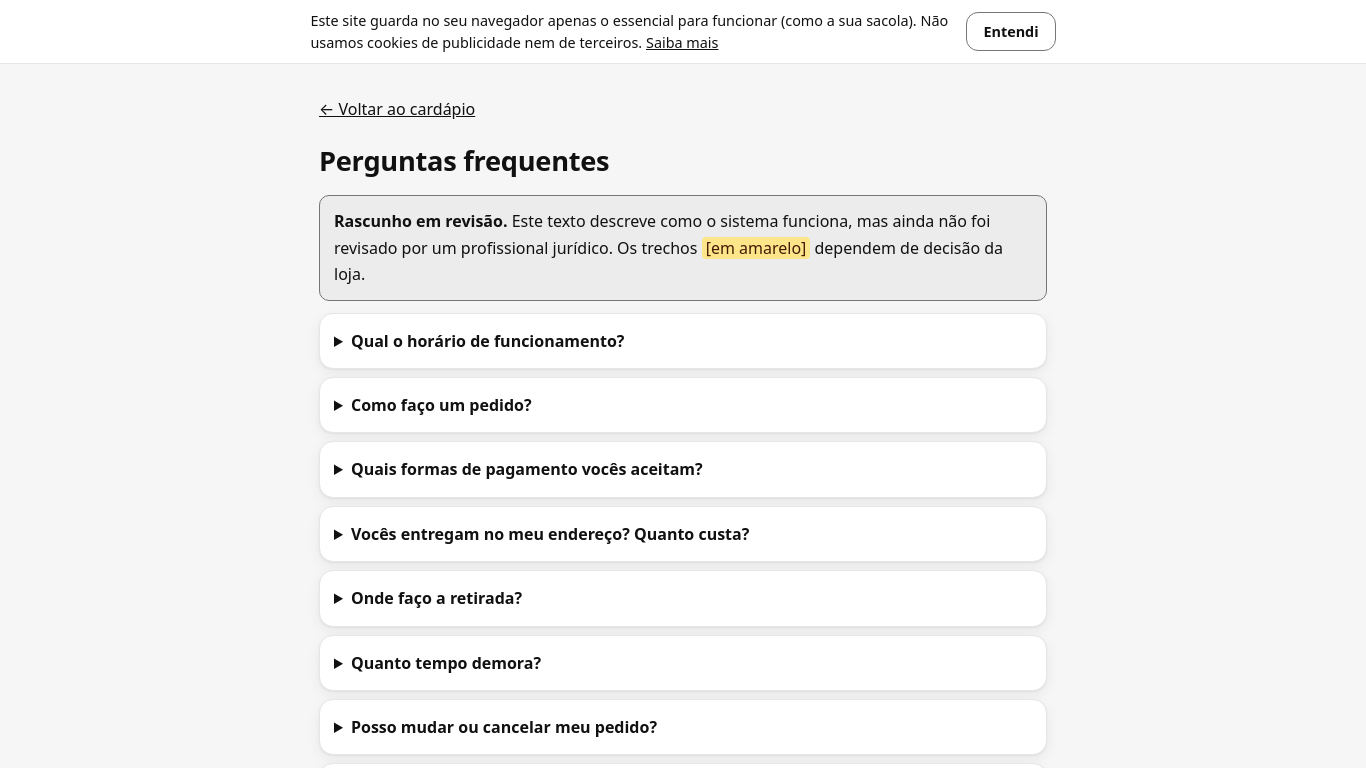
Test case: aviso de cookies › aparece na primeira visita, some ao clicar em "Entendi" e não volta depois
Check: the element named "cookies" is shown, box [0,0,1365,64]
Click the button "Entendi" at (1011, 32), box [966,12,1056,51]
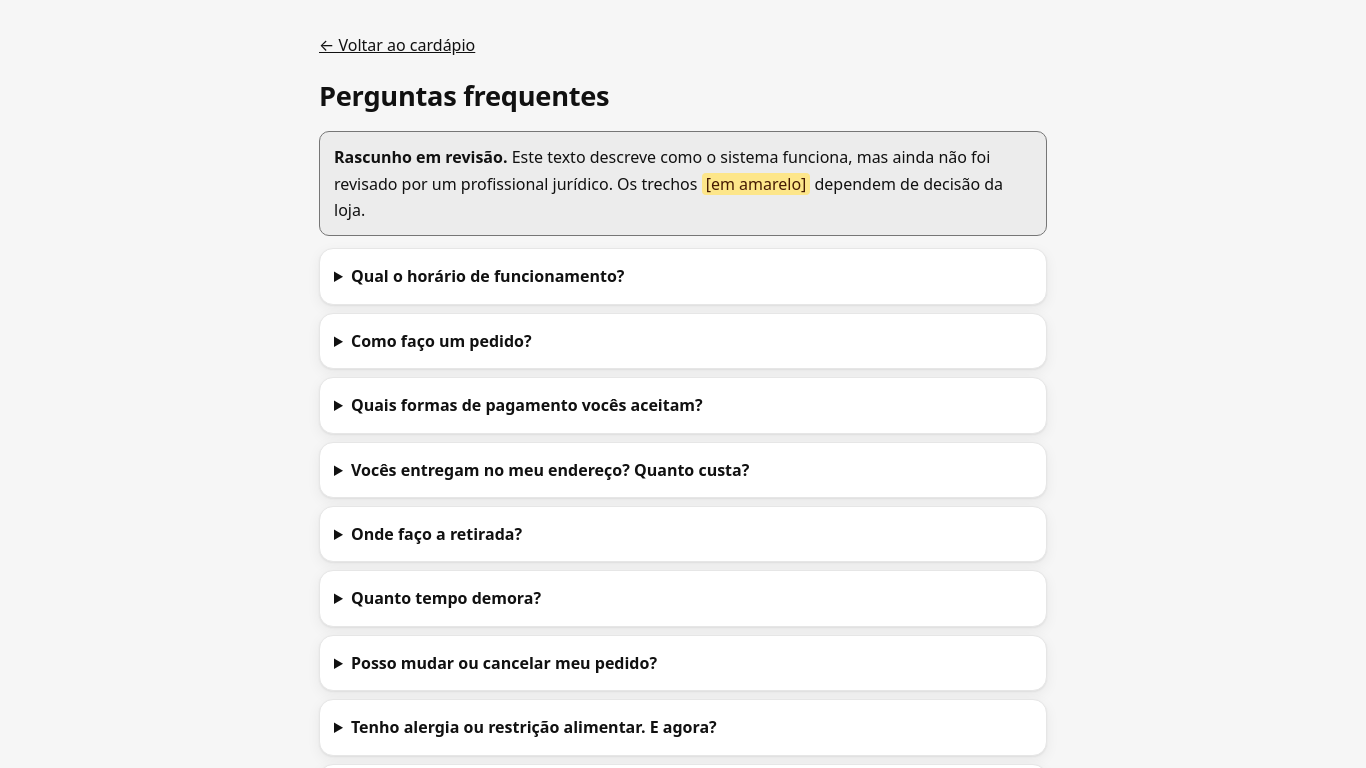
Check: the element "cookies" is gone
